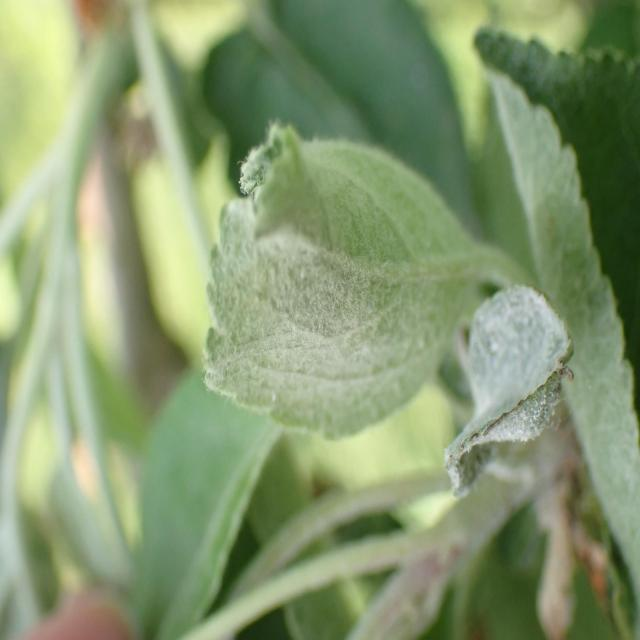Powdery_mildew: (198, 108, 486, 479), (476, 5, 636, 626), (443, 280, 592, 504)
